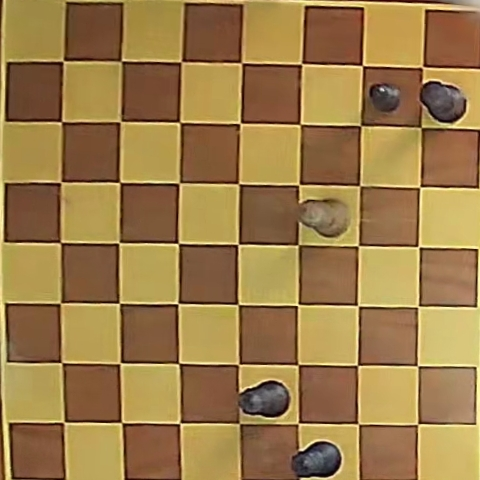black-king: (419, 80, 466, 123)
black-pawn: (370, 83, 401, 112)
black-queen: (238, 380, 290, 418), (291, 441, 342, 478)
white-king: (300, 199, 350, 237)
